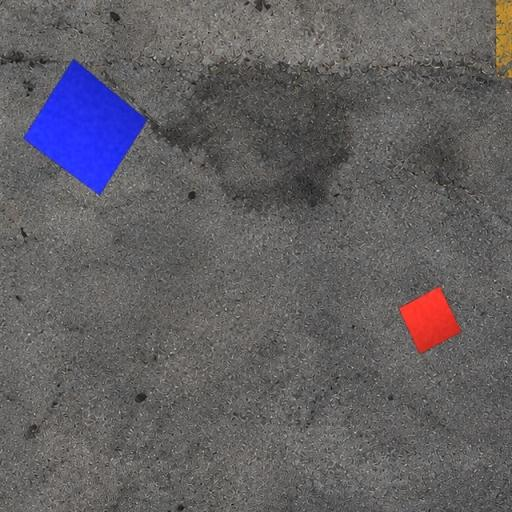BLUE_SQUARE: (22, 58, 148, 196)
RED_SQUARE: (398, 286, 462, 355)
